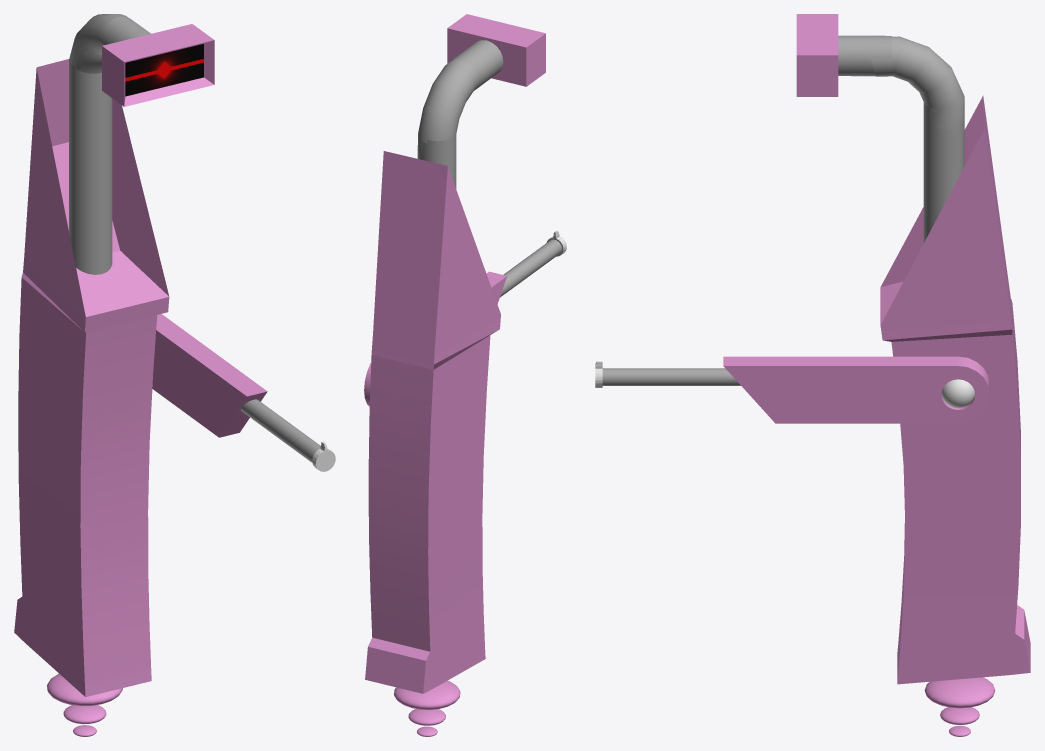
The model's file is MagentaLongCombined.fbx.
3 views of the same model, side by side, from view 1: azimuth 30°, elevation 25°; view 2: azimuth 150°, elevation 25°; view 3: azimuth 270°, elevation 25° (orthographic). The views are drawn at different scales.
Parts seen in each view (by area): view 1: polySurface6; view 2: polySurface6; view 3: polySurface6.
Boxes of the visible parts, x1,y1,x2,y2 form: polySurface6: (14,14,335,736); polySurface6: (364,14,566,736); polySurface6: (595,14,1030,736).
Bounding box in the file's own units: 1.19 × 7.59 × 4.29.
Materials: 4 (1 with a texture image).
